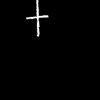single_crochet: (27, 0, 47, 35)
